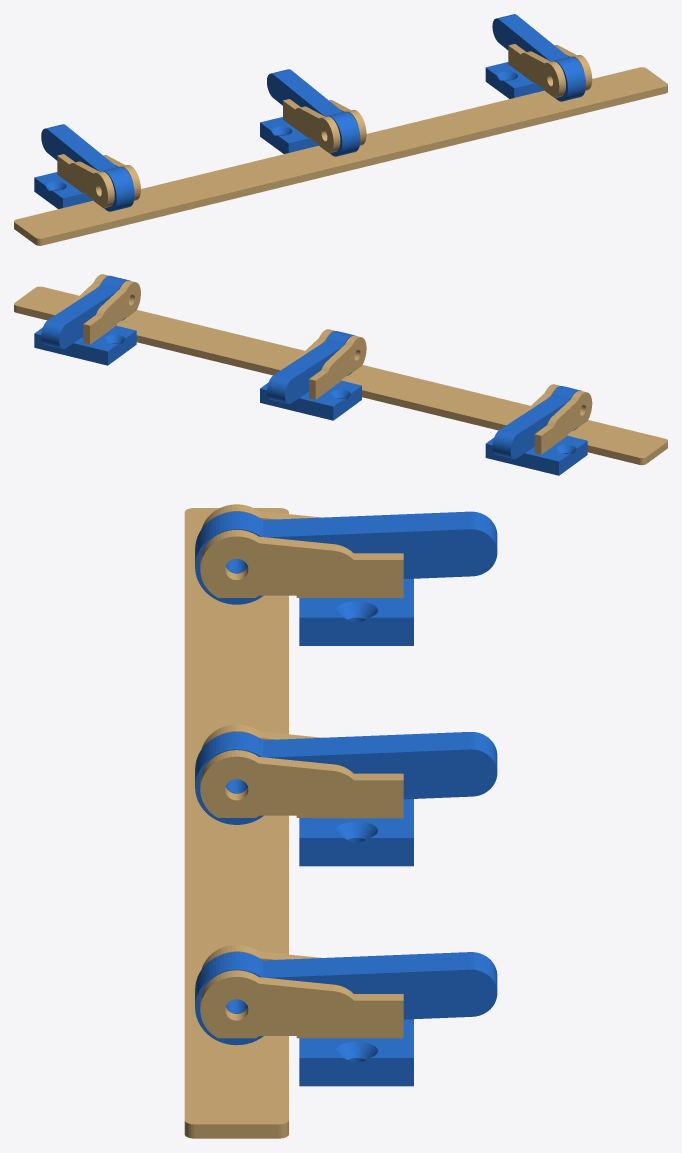
File: m11_baugruppe.glb
The picture shows the model from 3 angles, top to bottom: view 1: azimuth 30°, elevation 25°; view 2: azimuth 150°, elevation 25°; view 3: azimuth 270°, elevation 25°; orthographic projection. The views are drawn at different scales.
Visible parts, largest first — view 1: M11-P01_1, M11-P04_1, M11-P04_3, M11-P04_2, M11-P03_4, M11-P03_6, M11-P03_5, M11-P02_3, M11-P02_1, M11-P02_2, M11-P03_1, M11-P03_2 (+1 smaller); view 2: M11-P01_1, M11-P04_3, M11-P04_1, M11-P04_2, M11-P02_3, M11-P02_1, M11-P02_2, M11-P03_4, M11-P03_5, M11-P03_6; view 3: M11-P01_1, M11-P04_1, M11-P04_3, M11-P04_2, M11-P03_2, M11-P03_3, M11-P03_1, M11-P02_2, M11-P02_3, M11-P02_1.
Part boxes in pixels (<box>): M11-P01_1: <box>14,67,667,245</box>; M11-P04_1: <box>41,124,134,211</box>; M11-P04_3: <box>492,14,585,101</box>; M11-P04_2: <box>267,69,360,156</box>; M11-P03_4: <box>57,154,114,208</box>; M11-P03_6: <box>508,44,565,97</box>; M11-P03_5: <box>283,99,340,153</box>; M11-P02_3: <box>485,62,544,98</box>; M11-P02_1: <box>34,172,93,208</box>; M11-P02_2: <box>260,117,318,153</box>; M11-P03_1: <box>103,155,140,200</box>; M11-P03_2: <box>329,100,366,145</box>; M11-P01_1: <box>14,286,667,465</box>; M11-P04_3: <box>41,275,130,348</box>; M11-P04_1: <box>492,386,581,459</box>; M11-P04_2: <box>267,331,355,403</box>; M11-P02_3: <box>34,325,136,365</box>; M11-P02_1: <box>485,435,587,475</box>; M11-P02_2: <box>260,381,361,420</box>; M11-P03_4: <box>534,390,592,454</box>; M11-P03_5: <box>309,335,366,399</box>; M11-P03_6: <box>83,280,140,344</box>; M11-P01_1: <box>184,508,288,1138</box>; M11-P04_1: <box>195,511,497,604</box>; M11-P04_3: <box>195,952,497,1045</box>; M11-P04_2: <box>195,732,497,824</box>; M11-P03_2: <box>200,750,403,818</box>; M11-P03_3: <box>200,970,403,1038</box>; M11-P03_1: <box>200,530,403,597</box>; M11-P02_2: <box>299,799,413,866</box>; M11-P02_3: <box>299,1019,413,1086</box>; M11-P02_1: <box>299,578,413,645</box>.
Bounding box in the file's own units: 280 × 19 × 60.
